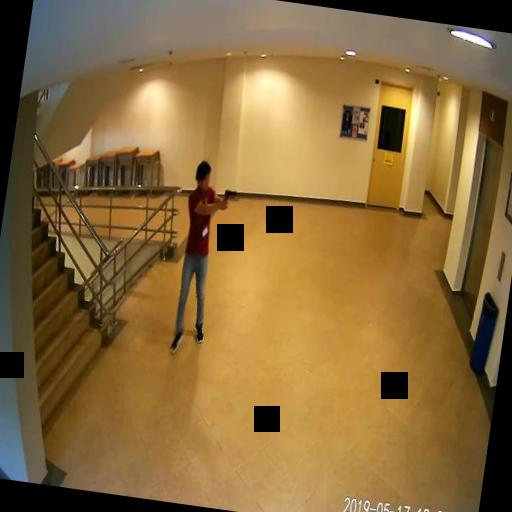Handgun: (222, 187, 236, 206)
